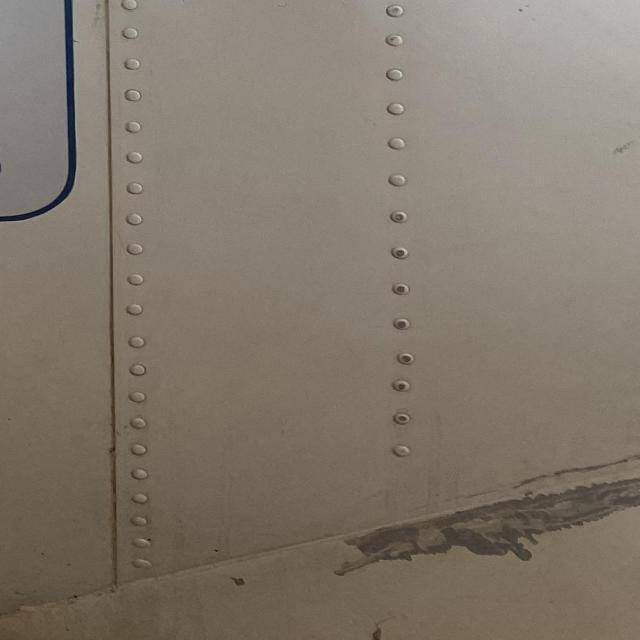Paint-off: (370, 624, 384, 640), (233, 575, 246, 586)
Scratch: (339, 478, 637, 575)
